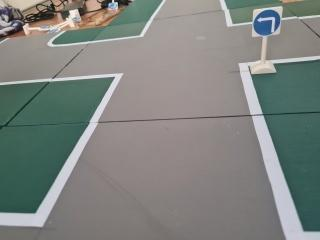left: (248, 2, 287, 42)
